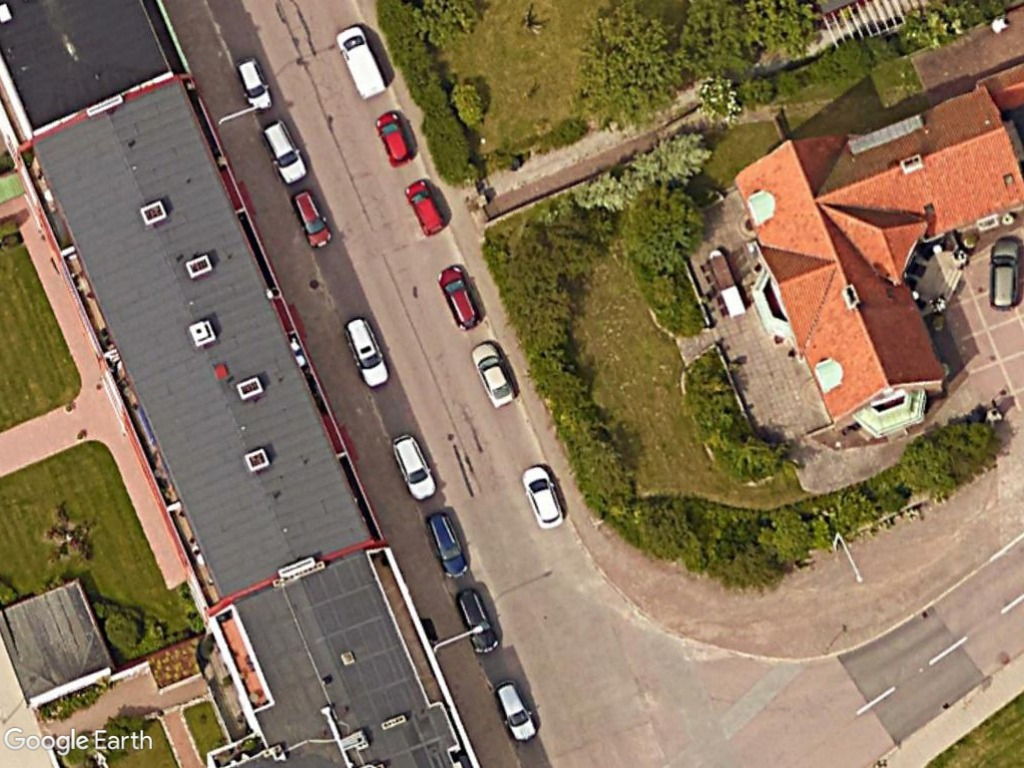car: (338, 314, 393, 391), (467, 340, 523, 411), (423, 507, 474, 583), (390, 430, 441, 505), (434, 261, 486, 334), (493, 674, 542, 746), (260, 118, 310, 187), (521, 459, 568, 531), (455, 584, 499, 656), (290, 184, 335, 253), (403, 177, 450, 240), (373, 105, 416, 168), (234, 54, 277, 116)
van: (330, 21, 388, 103)
